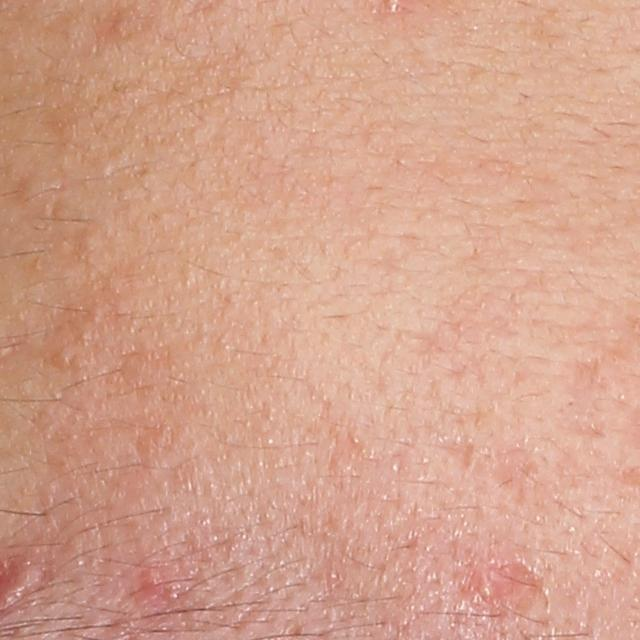atrophic_scar: (565, 358, 618, 403), (420, 437, 477, 476)
comedo: (82, 230, 103, 250)
